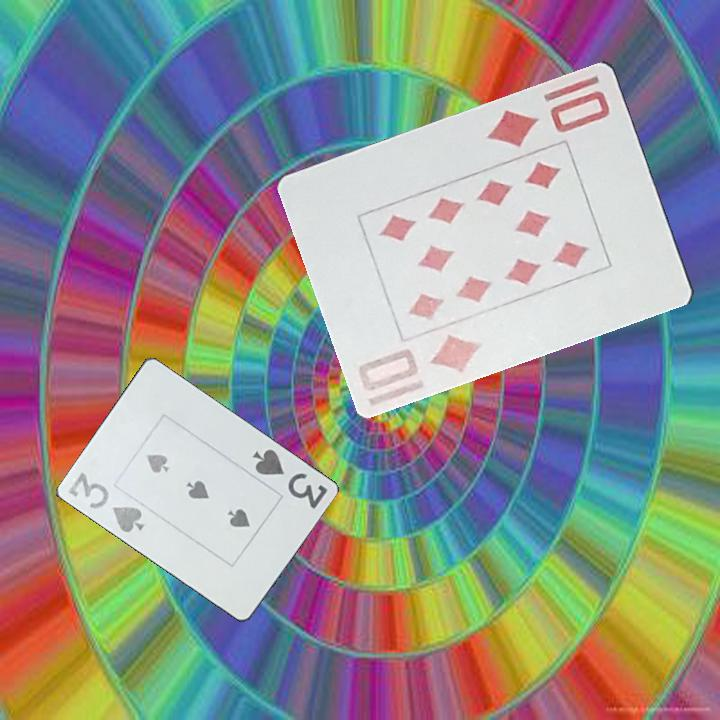3s: (64, 468, 147, 536), (249, 445, 330, 512)
Td: (354, 330, 486, 394), (483, 86, 613, 150)
